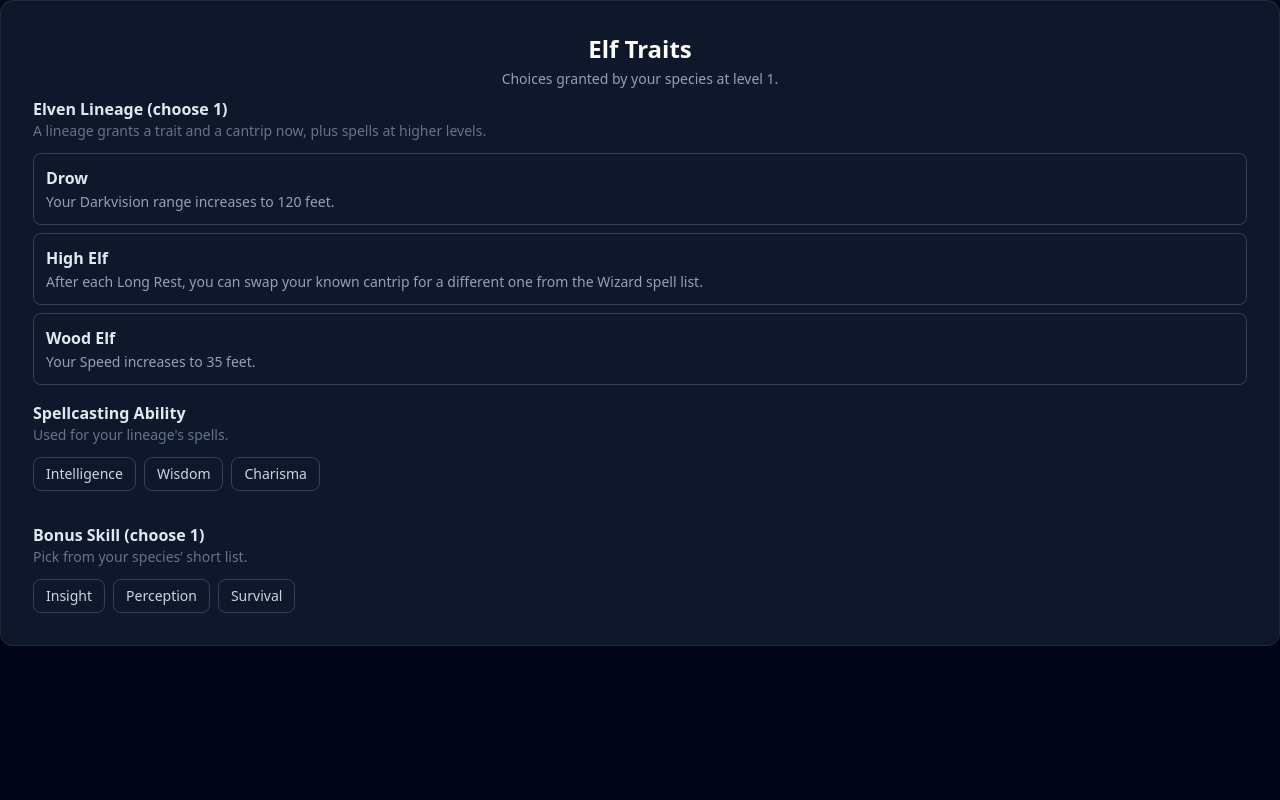
Test: Step3Species › shows Elf’s lineage picker, the level 1/3/5 grant preview once chosen, the spellcasting ability picker, and the bonus skill picker
This screenshot has width=1280, height=800.
Check: the heading "Elven Lineage (choose 1)" is shown, box 33,98 -> 228,120
Check: the text "High Elf" is shown, box 46,247 -> 108,269
Click the text "Drow" at (67, 178), box 46,167 -> 88,189
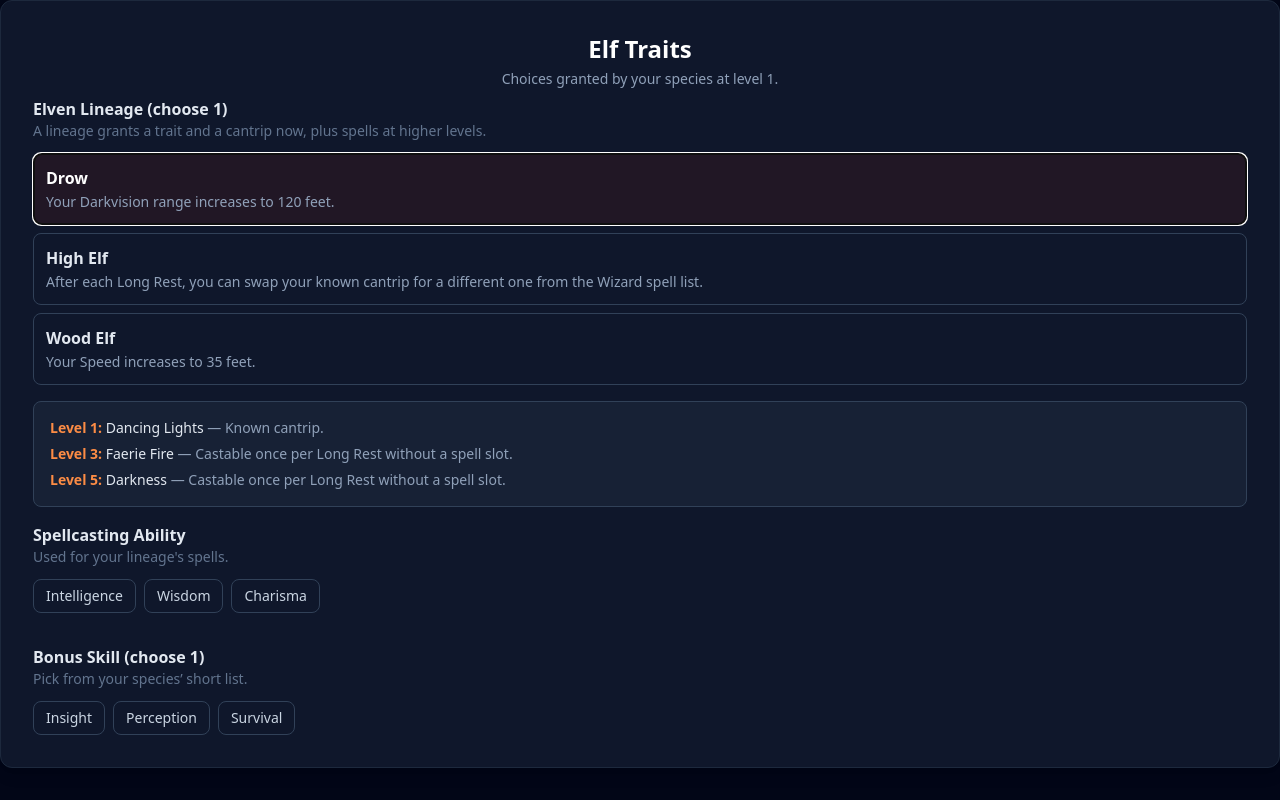
Check: the text "Level 1:" is shown, box 50,418 -> 102,437
Check: the text "Dancing Lights" is shown, box 106,418 -> 204,437
Check: the text "Level 3:" is shown, box 50,444 -> 102,463
